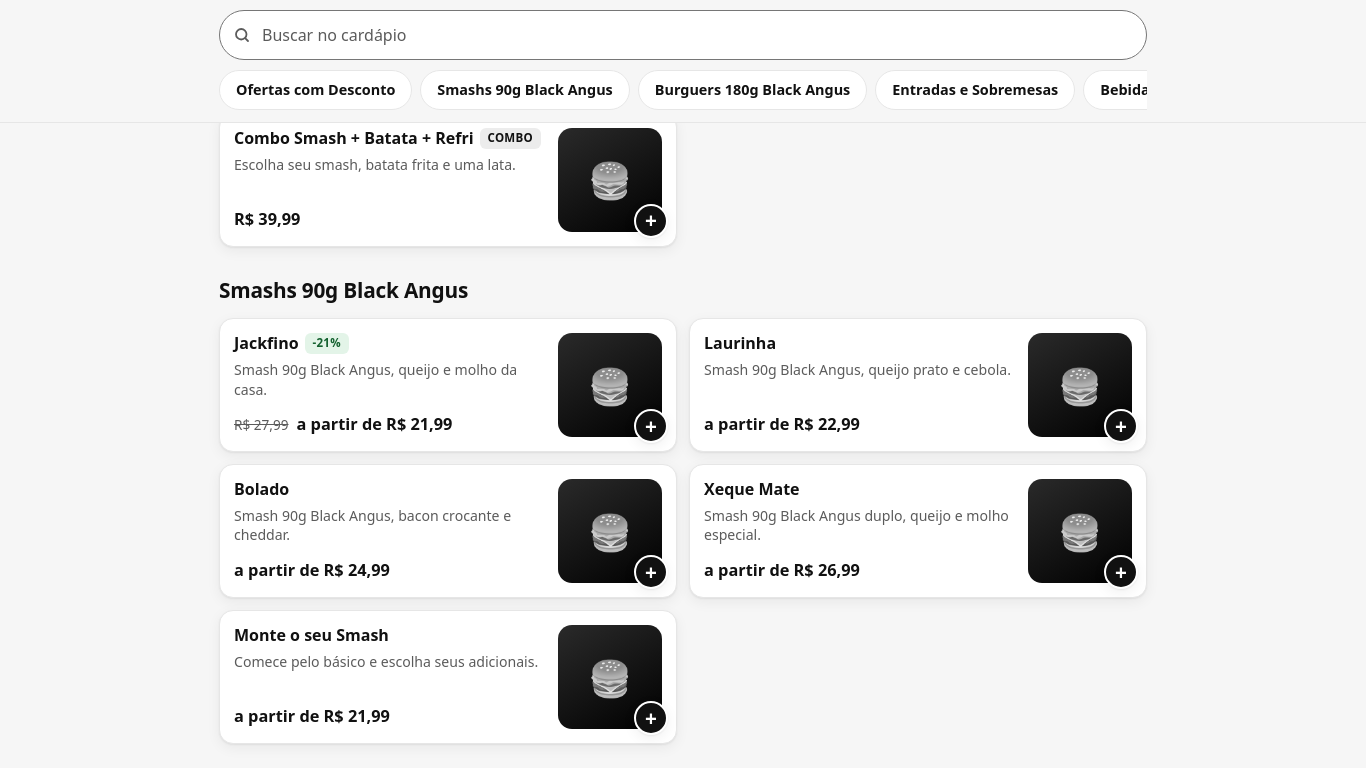
Test: Cardápio público › adicional permite repetir a mesma opção mais de uma vez (tarefa 2.11)
This screenshot has width=1366, height=768.
(page scrolled)
Click the button "Jackfino". click: (266,343)
box: [219,318,677,452]
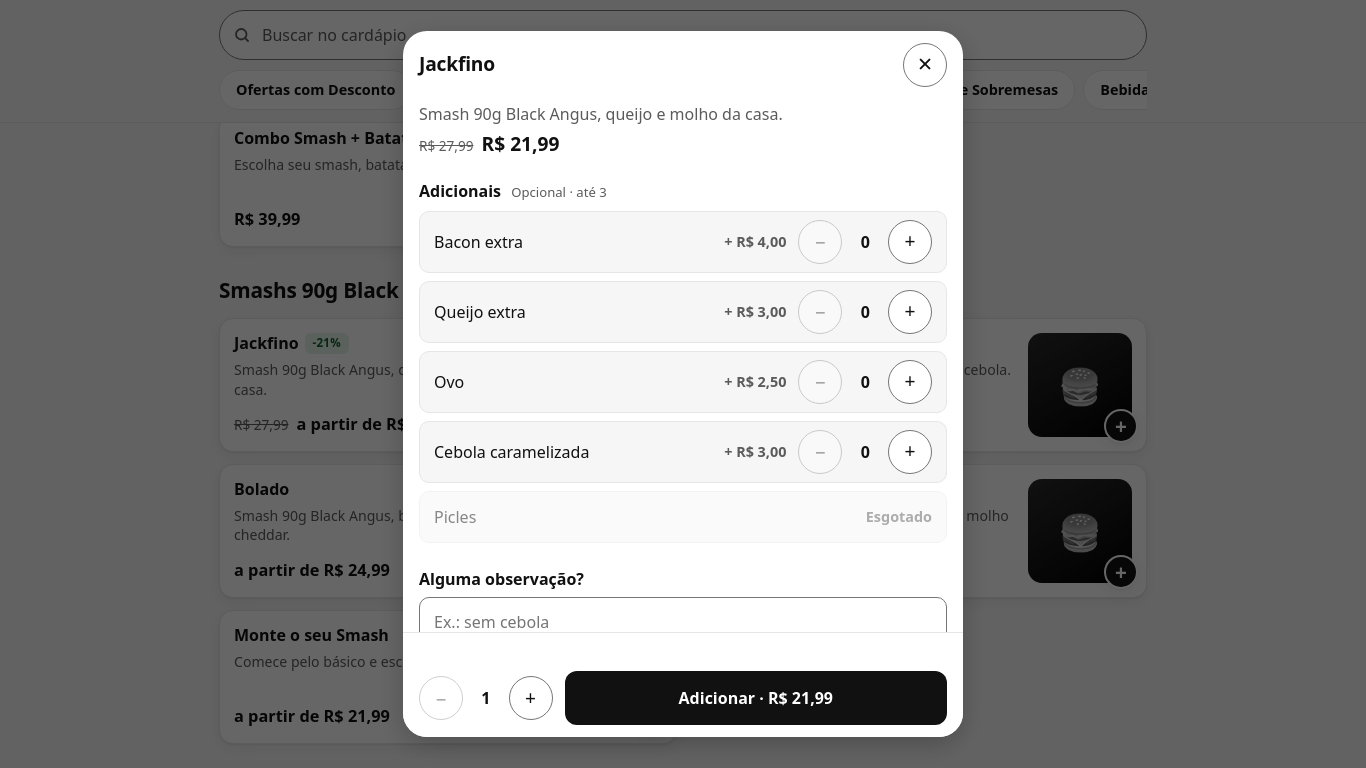
Click the button named "Aumentar quantidade de Bacon extra". click: (910,242)
box: [888,220,932,264]
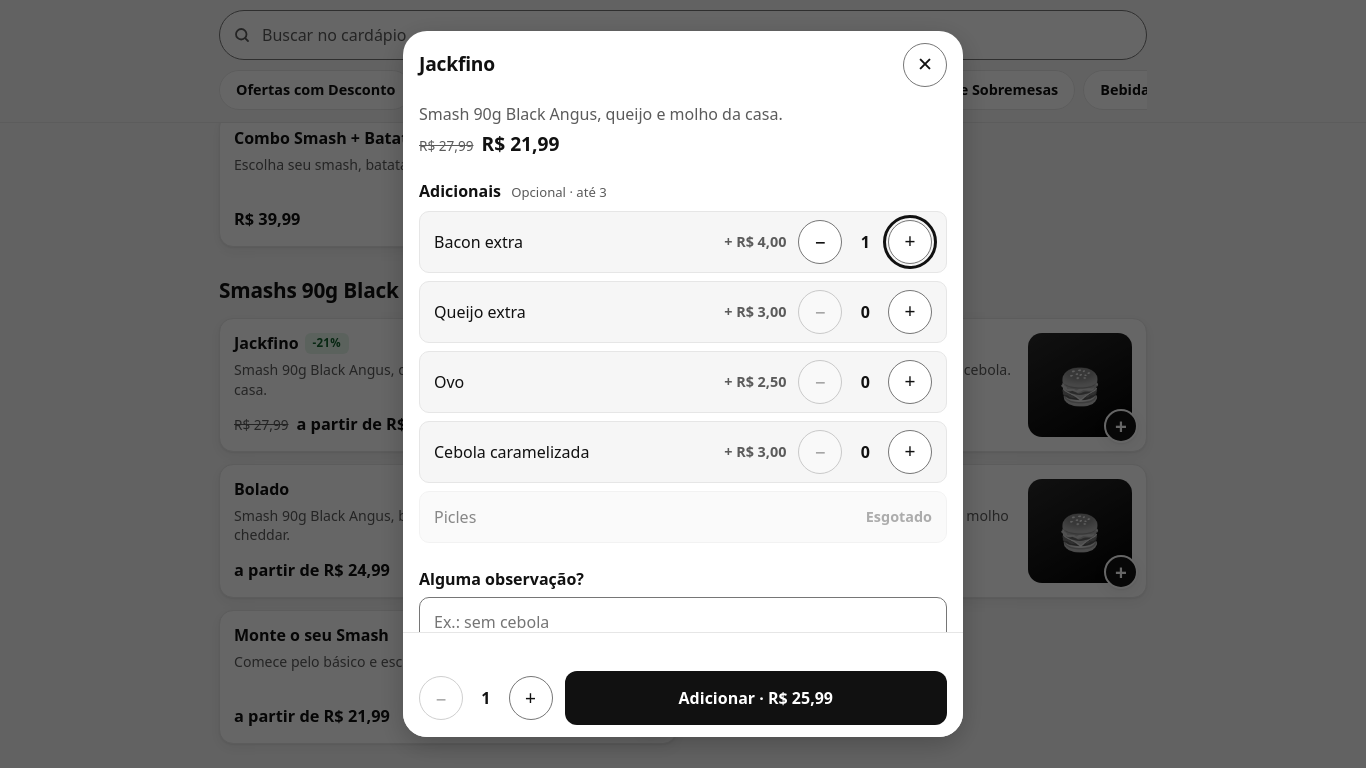
Click the button named "Aumentar quantidade de Bacon extra". click: (910,242)
box: [888,220,932,264]
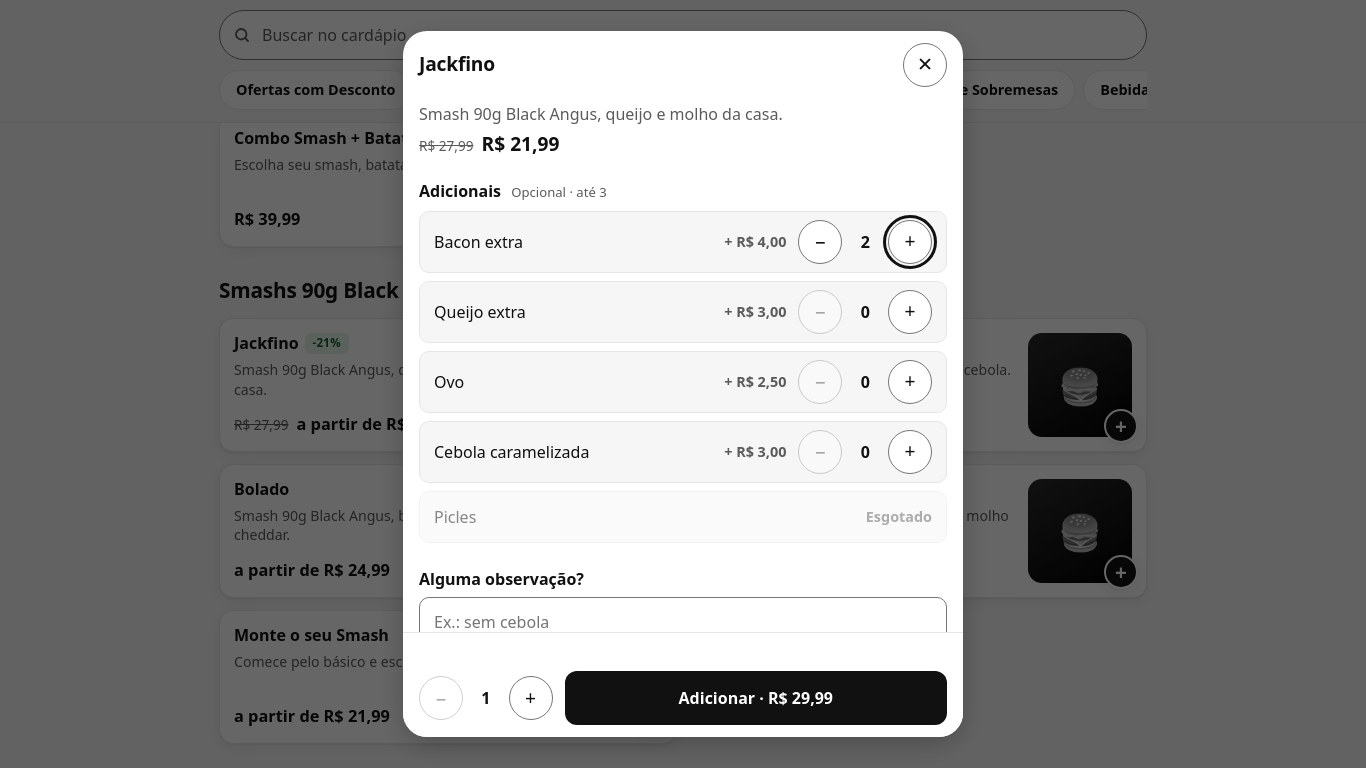
Expected: the button "Adicionar · R$ 29,99" is shown, [565,671,947,725]
